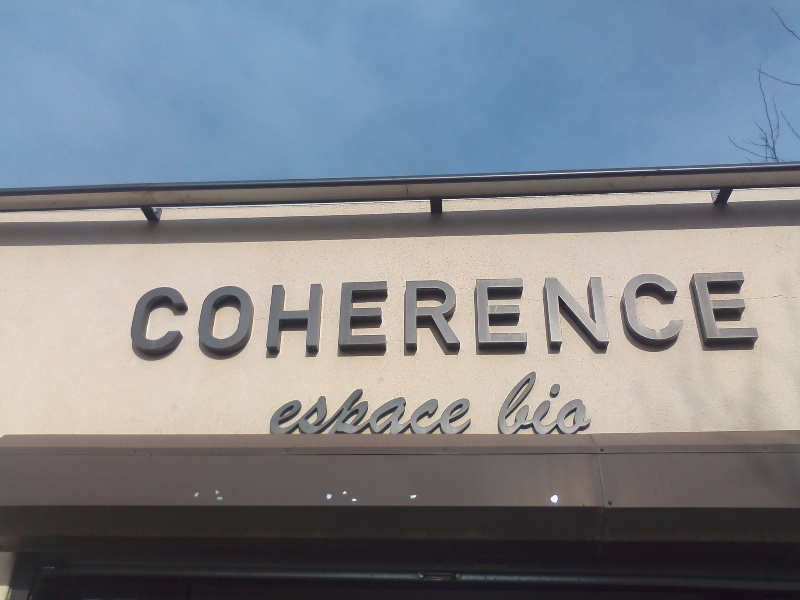text: (145, 270, 160, 363), (161, 270, 176, 363), (177, 270, 192, 363), (193, 270, 208, 363), (209, 270, 224, 363), (225, 270, 240, 363), (241, 270, 256, 363), (257, 270, 272, 363), (273, 270, 288, 363), (289, 270, 304, 363), (305, 270, 320, 363), (321, 270, 336, 363), (337, 270, 352, 363), (353, 270, 368, 363), (369, 270, 384, 363), (385, 270, 400, 363), (401, 270, 416, 363), (417, 270, 432, 363), (433, 270, 448, 363), (449, 270, 464, 363), (465, 270, 480, 363), (481, 270, 496, 363), (497, 270, 512, 363), (513, 270, 528, 363), (529, 270, 544, 363), (545, 270, 560, 363), (561, 270, 576, 363), (577, 270, 592, 363), (593, 270, 608, 363), (609, 270, 624, 363), (625, 270, 640, 363), (641, 270, 656, 363), (657, 270, 672, 363), (673, 270, 688, 363), (689, 270, 704, 363), (705, 270, 720, 363), (721, 270, 736, 363), (737, 270, 752, 363), (132, 270, 144, 363), (577, 370, 593, 435), (497, 370, 512, 435), (513, 370, 528, 435), (529, 370, 544, 435), (545, 370, 560, 435), (561, 370, 576, 435), (753, 270, 762, 363), (273, 386, 288, 437), (289, 386, 304, 437), (305, 386, 320, 437), (321, 386, 336, 437), (337, 386, 352, 437), (353, 386, 368, 437), (369, 386, 384, 437), (385, 386, 400, 437), (401, 386, 416, 437), (417, 386, 432, 437), (433, 386, 448, 437), (449, 386, 464, 437), (465, 386, 476, 437), (269, 386, 272, 437), (495, 370, 496, 435)
